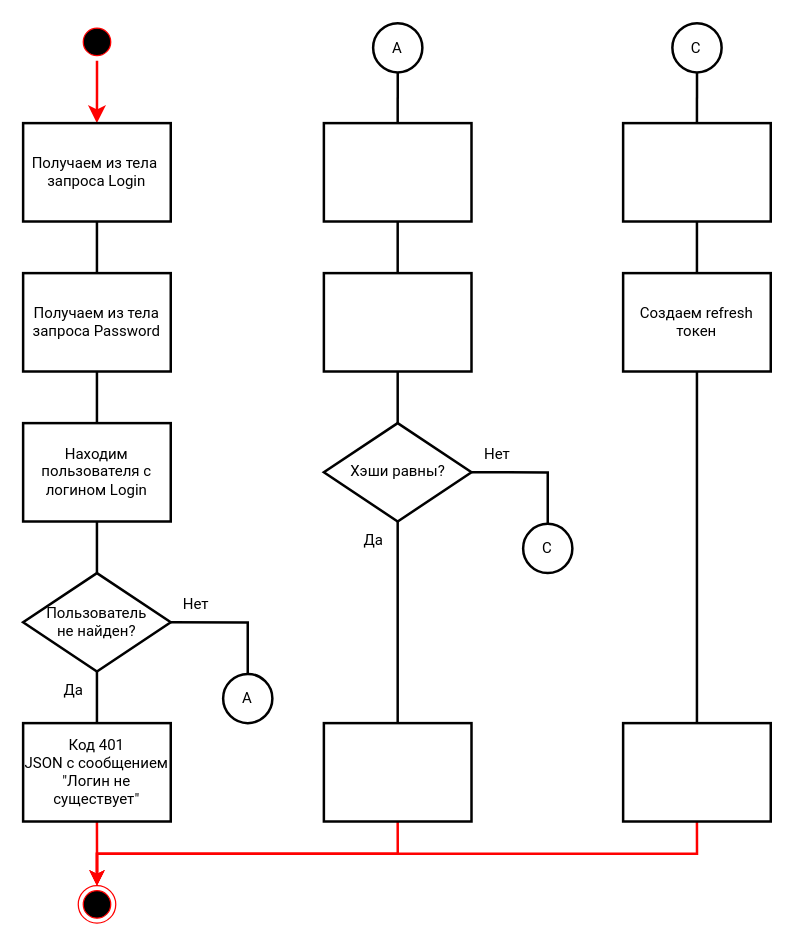
Image size: 794x945. Some labels were removed from this diagram. Here are the shapes that lost their labels. From the top down, the centre of each, then its label:
[397,171]: Хэшируем Password
[696,171]: Создаем access токен
[397,321]: Достаем от полученого пользователя поле HashPassword
[397,771]: Код 401 JSON с сообщением "Не верный пароль"
[696,771]: Код 200 JSON c access и refresh токенами
